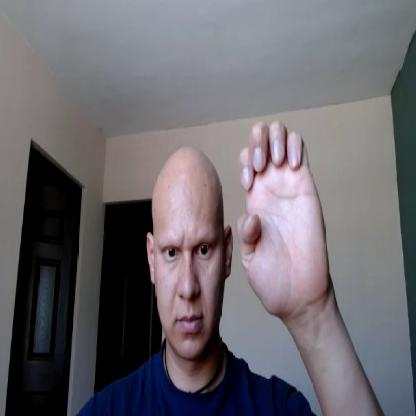E: (237, 119, 332, 314)
